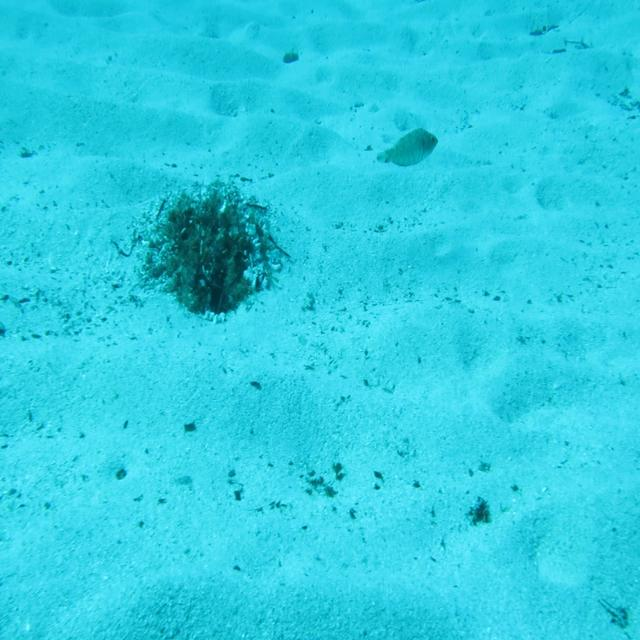SA: (372, 118, 444, 176)
core_nest: (192, 204, 242, 240)
nest: (154, 174, 282, 326)
